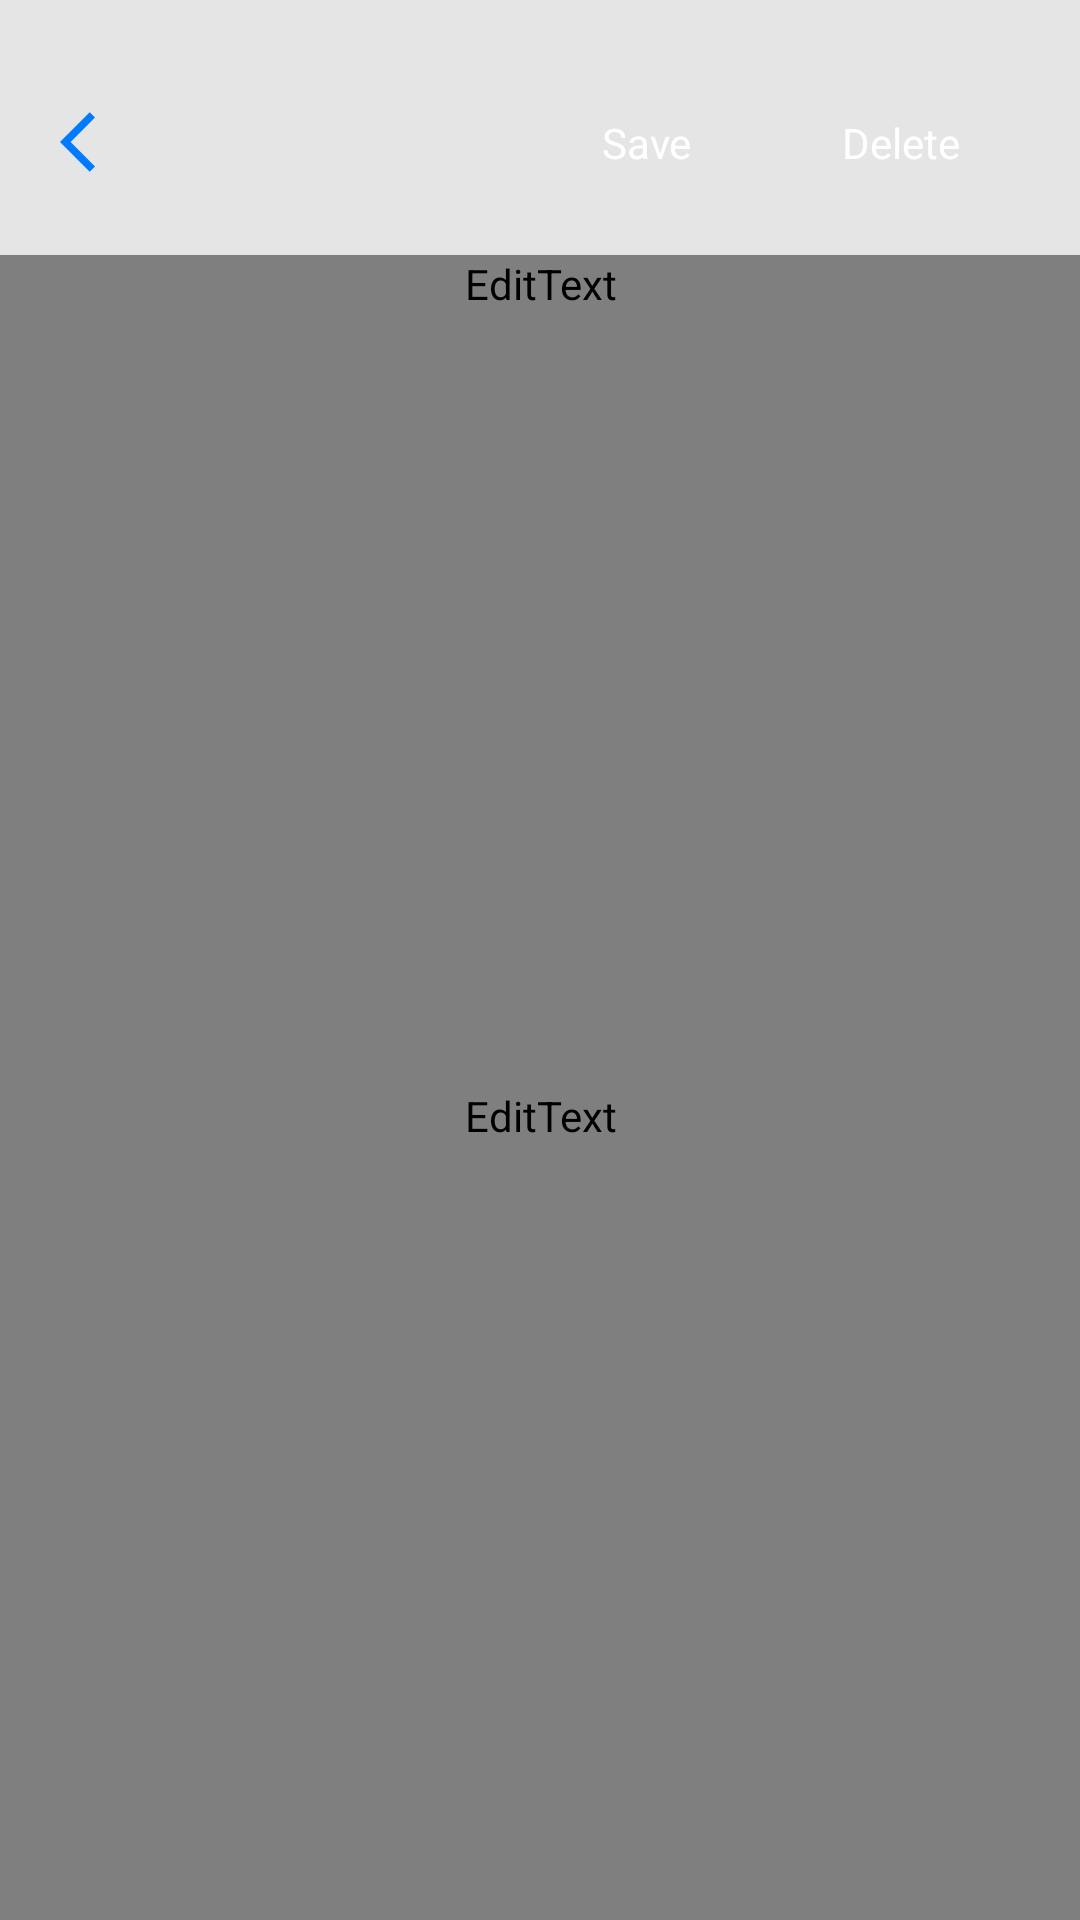

Where to tap for icons on this 1080 × 1920 app screen, as (x=x, y=y):
back: (x=77, y=142)
